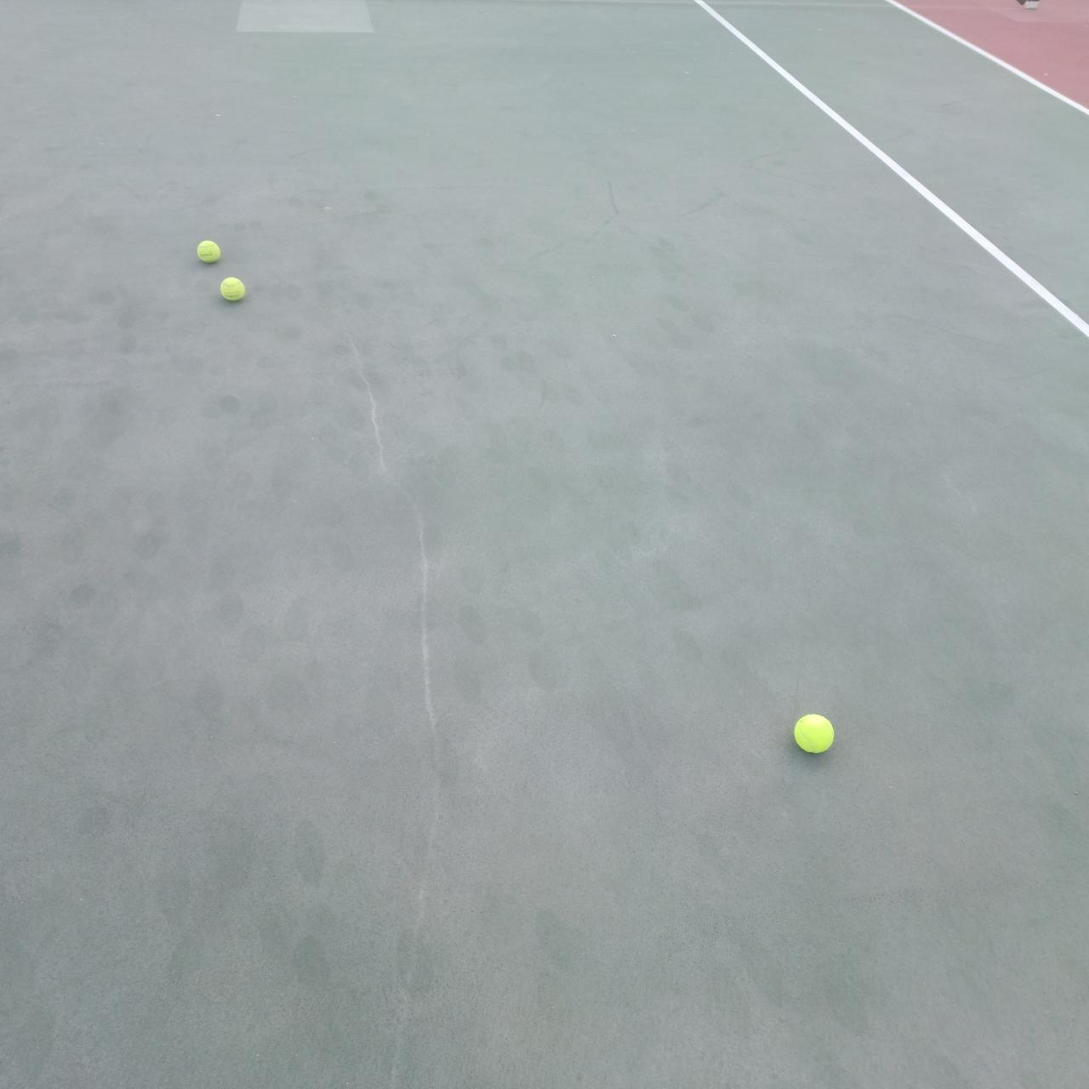tennis-ball: (793, 710, 836, 755), (197, 239, 222, 264), (220, 277, 245, 301)
